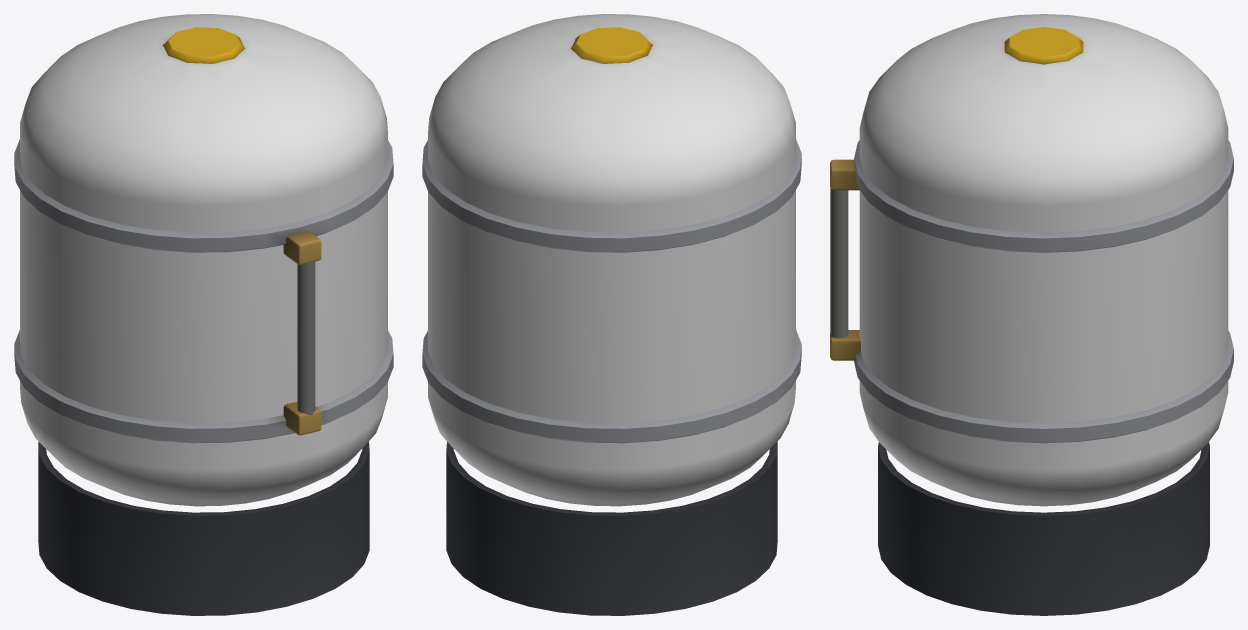
Rendered from deposito_refrigerante.glb.
3 views of the same model, side by side, from view 1: azimuth 30°, elevation 25°; view 2: azimuth 150°, elevation 25°; view 3: azimuth 270°, elevation 25° (orthographic).
Parts seen in each view (by area): view 1: cuerpo; view 2: cuerpo; view 3: cuerpo.
Part boxes in pixels (x1,y1,x2,y2): cuerpo: [14, 14, 393, 615]; cuerpo: [422, 14, 801, 615]; cuerpo: [830, 14, 1233, 615].
Size of the model in its own units: 0.412 by 0.603 by 0.438.
